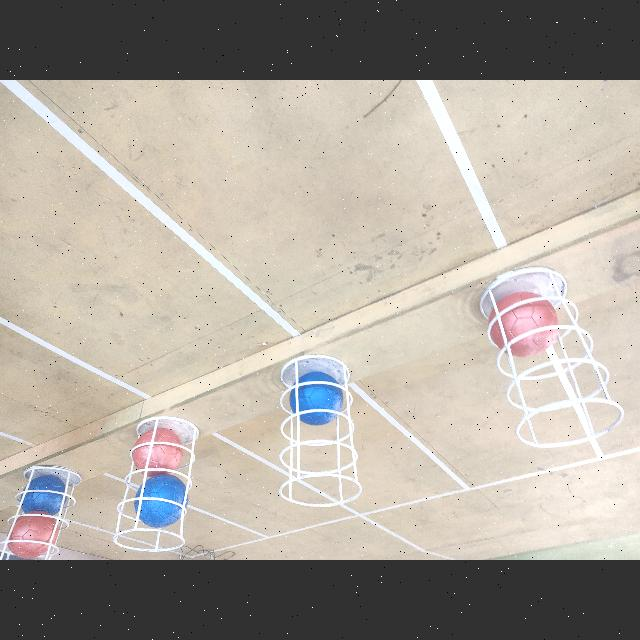B: (134, 473, 188, 527), (290, 372, 342, 426), (21, 474, 67, 516)
R: (487, 292, 559, 358), (131, 426, 183, 476), (8, 511, 58, 559)
